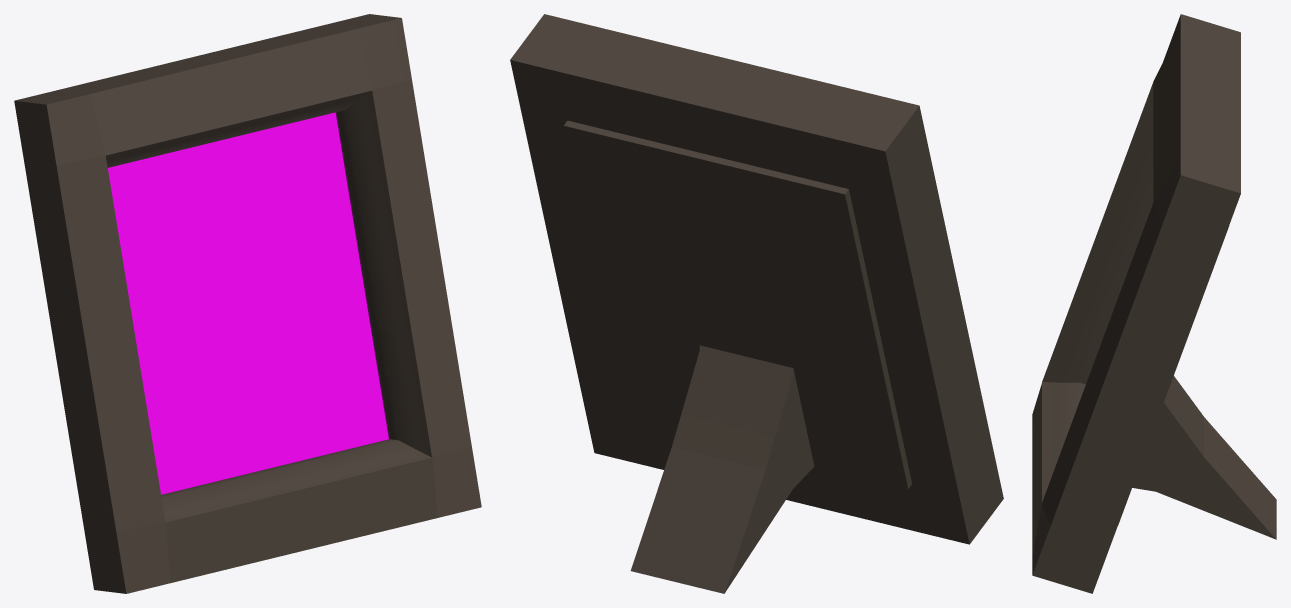
Rendered from CuadroT.fbx.
The picture shows the model from 3 angles, left to right: view 1: azimuth 30°, elevation 25°; view 2: azimuth 150°, elevation 25°; view 3: azimuth 270°, elevation 25°; orthographic projection. The views are drawn at different scales.
Visible parts, largest first — view 1: pCube1; view 2: pCube1; view 3: pCube1.
Boxes of the visible parts, bbox=[...] form: pCube1: bbox=[14, 14, 481, 593]; pCube1: bbox=[510, 14, 1003, 593]; pCube1: bbox=[1032, 14, 1276, 593].
Size of the model in its own units: 18 by 22.14 by 11.53.
